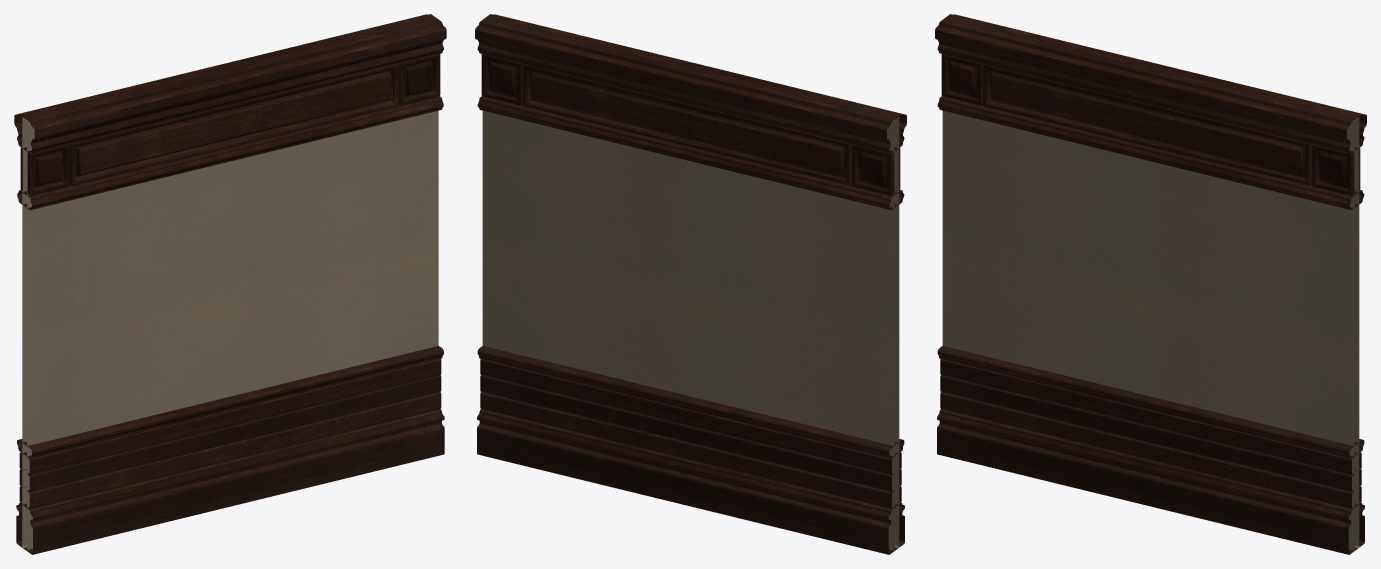
File: SK6 WALL 2 INT.fbx
The picture shows the model from 3 angles, left to right: view 1: azimuth 30°, elevation 25°; view 2: azimuth 150°, elevation 25°; view 3: azimuth 330°, elevation 25°; orthographic projection.
Parts seen in each view (by area): view 1: SK6 WALL 2 INT; view 2: SK6 WALL 2 INT; view 3: SK6 WALL 2 INT.
Part boxes in pixels (x1,y1,x2,y2): SK6 WALL 2 INT: (14,14,446,554); SK6 WALL 2 INT: (475,14,906,554); SK6 WALL 2 INT: (935,14,1366,554).
Size of the model in its own units: 400 by 400 by 33.96.
